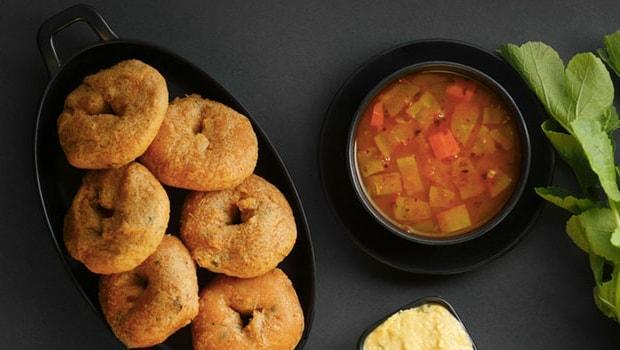mvada: (64, 87, 245, 300)
